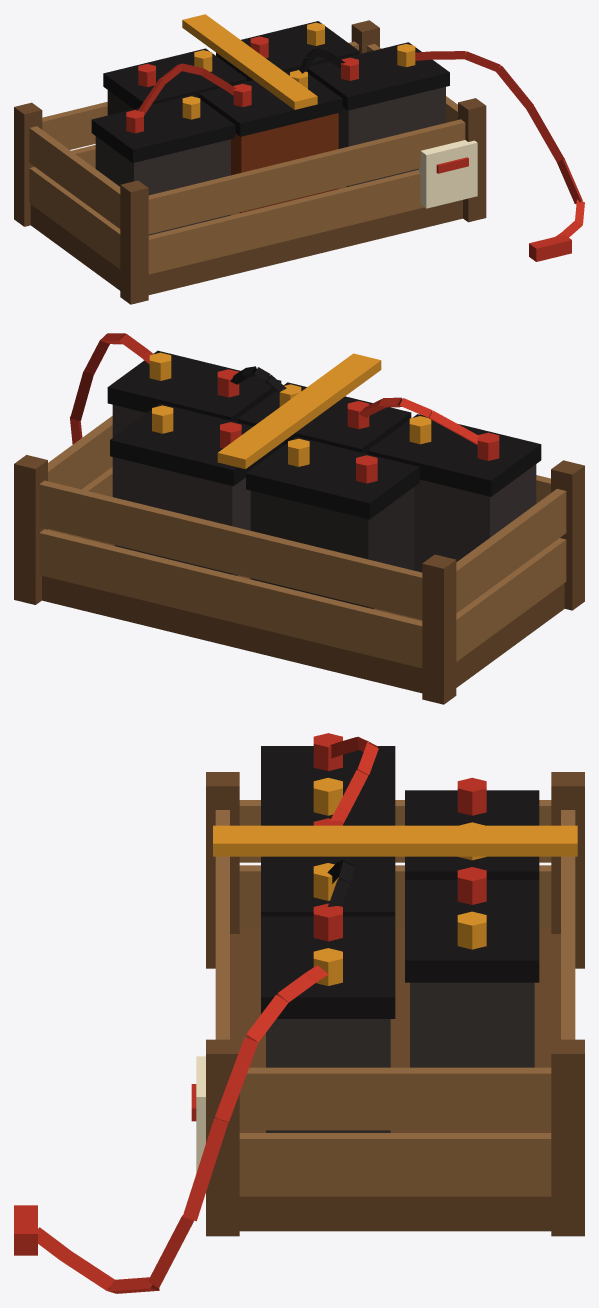
Rendered from baterie-T1-bedna.glb.
3 renders of one model, top to bottom at view 1: azimuth 30°, elevation 25°; view 2: azimuth 150°, elevation 25°; view 3: azimuth 270°, elevation 25°, orthographic. The views are drawn at different scales.
Visible parts, largest first — view 1: baterie-T1-bedna; view 2: baterie-T1-bedna; view 3: baterie-T1-bedna.
Boxes of the visible parts, x1,y1,x2,y2 form: baterie-T1-bedna: [14, 14, 584, 304]; baterie-T1-bedna: [14, 333, 584, 704]; baterie-T1-bedna: [14, 733, 584, 1293].
Size of the model in its own units: 3.59 by 1.46 by 2.5.
